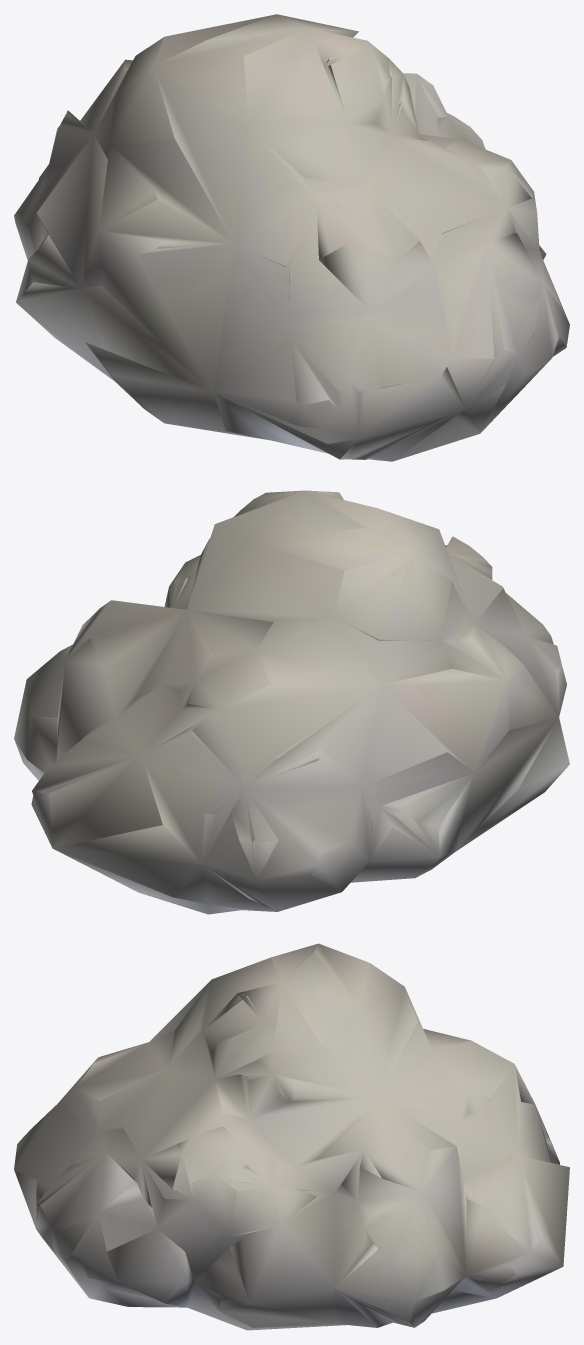
The model's file is cloud.glb.
3 renders of one model, top to bottom at view 1: azimuth 30°, elevation 25°; view 2: azimuth 150°, elevation 25°; view 3: azimuth 270°, elevation 25°, orthographic. The views are drawn at different scales.
Visible parts, largest first — view 1: tripo_node_68377497-38e4-4757-993e-4f1b9460c42e; view 2: tripo_node_68377497-38e4-4757-993e-4f1b9460c42e; view 3: tripo_node_68377497-38e4-4757-993e-4f1b9460c42e.
Part boxes in pixels (x1,y1,x2,y2): tripo_node_68377497-38e4-4757-993e-4f1b9460c42e: [14, 14, 569, 461]; tripo_node_68377497-38e4-4757-993e-4f1b9460c42e: [14, 490, 569, 914]; tripo_node_68377497-38e4-4757-993e-4f1b9460c42e: [14, 943, 569, 1330].
Bounding box in the file's own units: 0.8074 × 0.5934 × 0.9631.
Materials: 1 (1 with a texture image).
